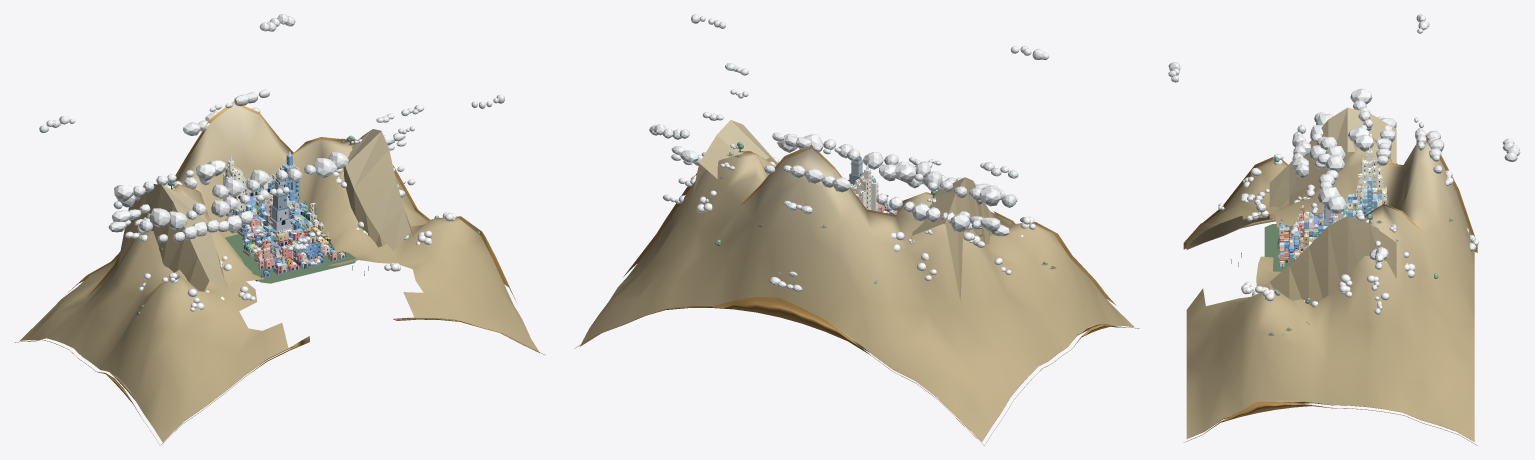
The model's file is candidate.glb.
The picture shows the model from 3 angles, left to right: view 1: azimuth 30°, elevation 25°; view 2: azimuth 150°, elevation 25°; view 3: azimuth 270°, elevation 25°; orthographic projection. The views are drawn at different scales.
Parts seen in each view (by area): view 1: citadel-oskar-grid-mountain-surface, highland-ravine-wall-east, highland-ravine-wall-west, backlit-highlight-citadel-oskar-grid-mountain-surface, town-terrace-0-level-0, highland-hero-cloud-blob-cap, highland-hero-cloud-blob-windward:3, highland-town-foundation-platform, town-terrace-0-level-2, town-terrace-0-level-1, town-terrace-0-level-3, highland-hero-cloud-blob-windward:0 (+1 smaller); view 2: citadel-oskar-grid-mountain-surface, backlit-highlight-citadel-oskar-grid-mountain-surface, highland-ravine-wall-west, highland-ravine-wall-east, highland-hero-cloud-blob-windward:0, highland-hero-cloud-blob-cap, highland-hero-cloud-blob-windward:1, highland-hero-cloud-blob-ridge:0:3, highland-hero-cloud-blob-windward:3; view 3: citadel-oskar-grid-mountain-surface, highland-ravine-wall-east, highland-ravine-wall-west, backlit-highlight-citadel-oskar-grid-mountain-surface, highland-hero-cloud-blob-cap, highland-hero-cloud-blob-windward:0, town-terrace-0-level-3, highland-hero-cloud-blob-windward:2, highland-town-foundation-platform, highland-hero-cloud-blob-windward:1, highland-hero-cloud-blob-windward:3, town-terrace-0-level-2 (+5 smaller).
Boxes of the visible parts, x1=… form: citadel-oskar-grid-mountain-surface: x1=20, y1=104, x2=539, y2=441; highland-ravine-wall-east: x1=343, y1=129, x2=415, y2=251; highland-ravine-wall-west: x1=117, y1=184, x2=227, y2=291; backlit-highlight-citadel-oskar-grid-mountain-surface: x1=14, y1=101, x2=545, y2=445; town-terrace-0-level-0: x1=226, y1=186, x2=345, y2=277; highland-hero-cloud-blob-cap: x1=212, y1=152, x2=348, y2=198; highland-hero-cloud-blob-windward:3: x1=139, y1=194, x2=250, y2=232; highland-town-foundation-platform: x1=225, y1=234, x2=356, y2=283; town-terrace-0-level-2: x1=225, y1=182, x2=324, y2=259; town-terrace-0-level-1: x1=223, y1=185, x2=336, y2=270; town-terrace-0-level-3: x1=226, y1=175, x2=324, y2=255; highland-hero-cloud-blob-windward:0: x1=114, y1=160, x2=225, y2=201; citadel-oskar-grid-mountain-surface: x1=579, y1=148, x2=1133, y2=441; backlit-highlight-citadel-oskar-grid-mountain-surface: x1=574, y1=144, x2=1139, y2=445; highland-ravine-wall-west: x1=911, y1=177, x2=994, y2=301; highland-ravine-wall-east: x1=692, y1=120, x2=777, y2=194; highland-hero-cloud-blob-windward:0: x1=879, y1=164, x2=1001, y2=206; highland-hero-cloud-blob-cap: x1=777, y1=133, x2=930, y2=180; highland-hero-cloud-blob-windward:1: x1=876, y1=193, x2=980, y2=231; highland-hero-cloud-blob-ridge:0:3: x1=764, y1=165, x2=851, y2=192; highland-hero-cloud-blob-windward:3: x1=907, y1=171, x2=1016, y2=207; citadel-oskar-grid-mountain-surface: x1=1186, y1=141, x2=1474, y2=441; highland-ravine-wall-east: x1=1269, y1=216, x2=1396, y2=306; highland-ravine-wall-west: x1=1269, y1=107, x2=1396, y2=218; backlit-highlight-citadel-oskar-grid-mountain-surface: x1=1183, y1=135, x2=1477, y2=445; highland-hero-cloud-blob-cap: x1=1317, y1=137, x2=1346, y2=213; highland-hero-cloud-blob-windward:0: x1=1348, y1=88, x2=1374, y2=151; town-terrace-0-level-3: x1=1292, y1=185, x2=1387, y2=241; highland-hero-cloud-blob-windward:2: x1=1292, y1=124, x2=1311, y2=177; highland-town-foundation-platform: x1=1264, y1=224, x2=1293, y2=271; highland-hero-cloud-blob-windward:1: x1=1374, y1=116, x2=1396, y2=165; highland-hero-cloud-blob-windward:3: x1=1309, y1=112, x2=1333, y2=168; town-terrace-0-level-2: x1=1292, y1=187, x2=1388, y2=252.
Size of the model in its own units: 185 by 113 by 144.
117 materials, 80 textured.
